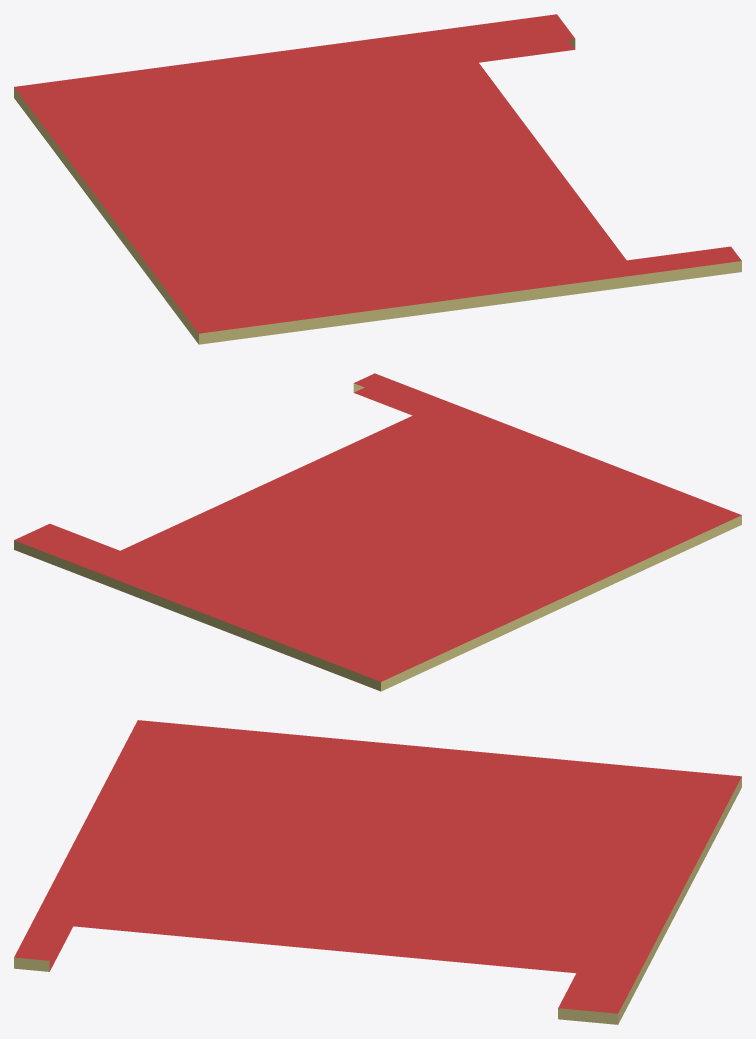
The picture shows the model from 3 angles, top to bottom: view 1: azimuth 30°, elevation 25°; view 2: azimuth 150°, elevation 25°; view 3: azimuth 270°, elevation 25°; orthographic projection. The views are drawn at different scales.
Bounding box in the file's own units: 5.65 × 5.92 × 0.1.
